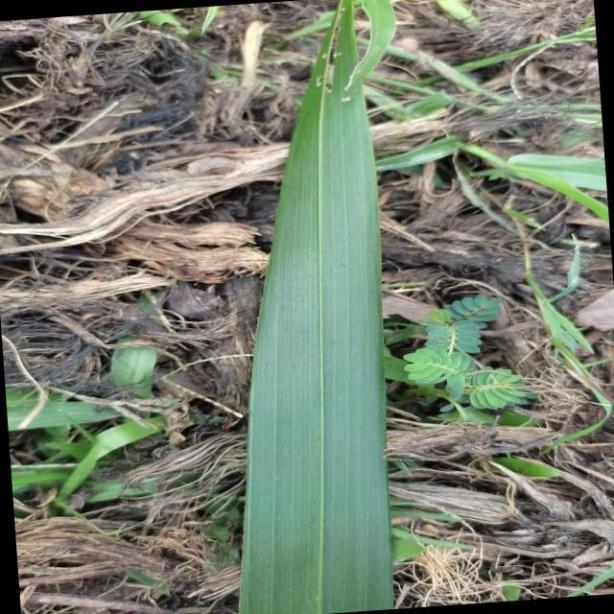Boron: (241, 0, 392, 614)
